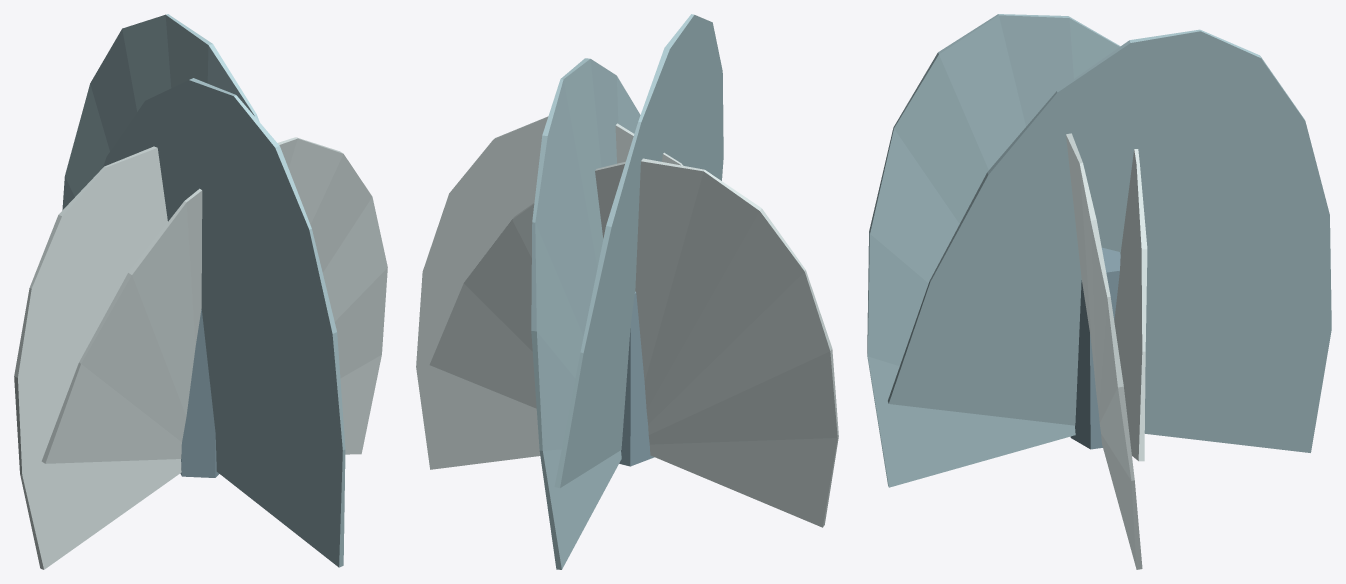
The model's file is tree-iceFan.glb.
3 views of the same model, side by side, from view 1: azimuth 30°, elevation 25°; view 2: azimuth 150°, elevation 25°; view 3: azimuth 270°, elevation 25° (orthographic).
Parts seen in each view (by area): view 1: fan-2, fan-1, fan-3, fan-4, root-crystal; view 2: fan-3, fan-4, fan-2, fan-1, root-crystal; view 3: fan-4, fan-2, fan-1, fan-3, root-crystal.
Boxes of the visible parts, left/top/right/bottom form: fan-2: left=103, top=78, right=345, bottom=567; fan-1: left=41, top=137, right=387, bottom=463; fan-3: left=14, top=146, right=181, bottom=569; fan-4: left=62, top=14, right=259, bottom=210; root-crystal: left=180, top=309, right=219, bottom=477; fan-3: left=429, top=158, right=838, bottom=527; fan-4: left=531, top=58, right=640, bottom=569; fan-2: left=554, top=14, right=723, bottom=487; fan-1: left=416, top=116, right=682, bottom=469; root-crystal: left=619, top=291, right=654, bottom=466; fan-4: left=888, top=29, right=1331, bottom=452; fan-2: left=867, top=14, right=1120, bottom=487; fan-1: left=1066, top=133, right=1142, bottom=569; fan-3: left=1114, top=149, right=1147, bottom=461; root-crystal: left=1070, top=247, right=1120, bottom=449.
Bounding box in the file's own units: 3.59 × 3.98 × 3.65.
